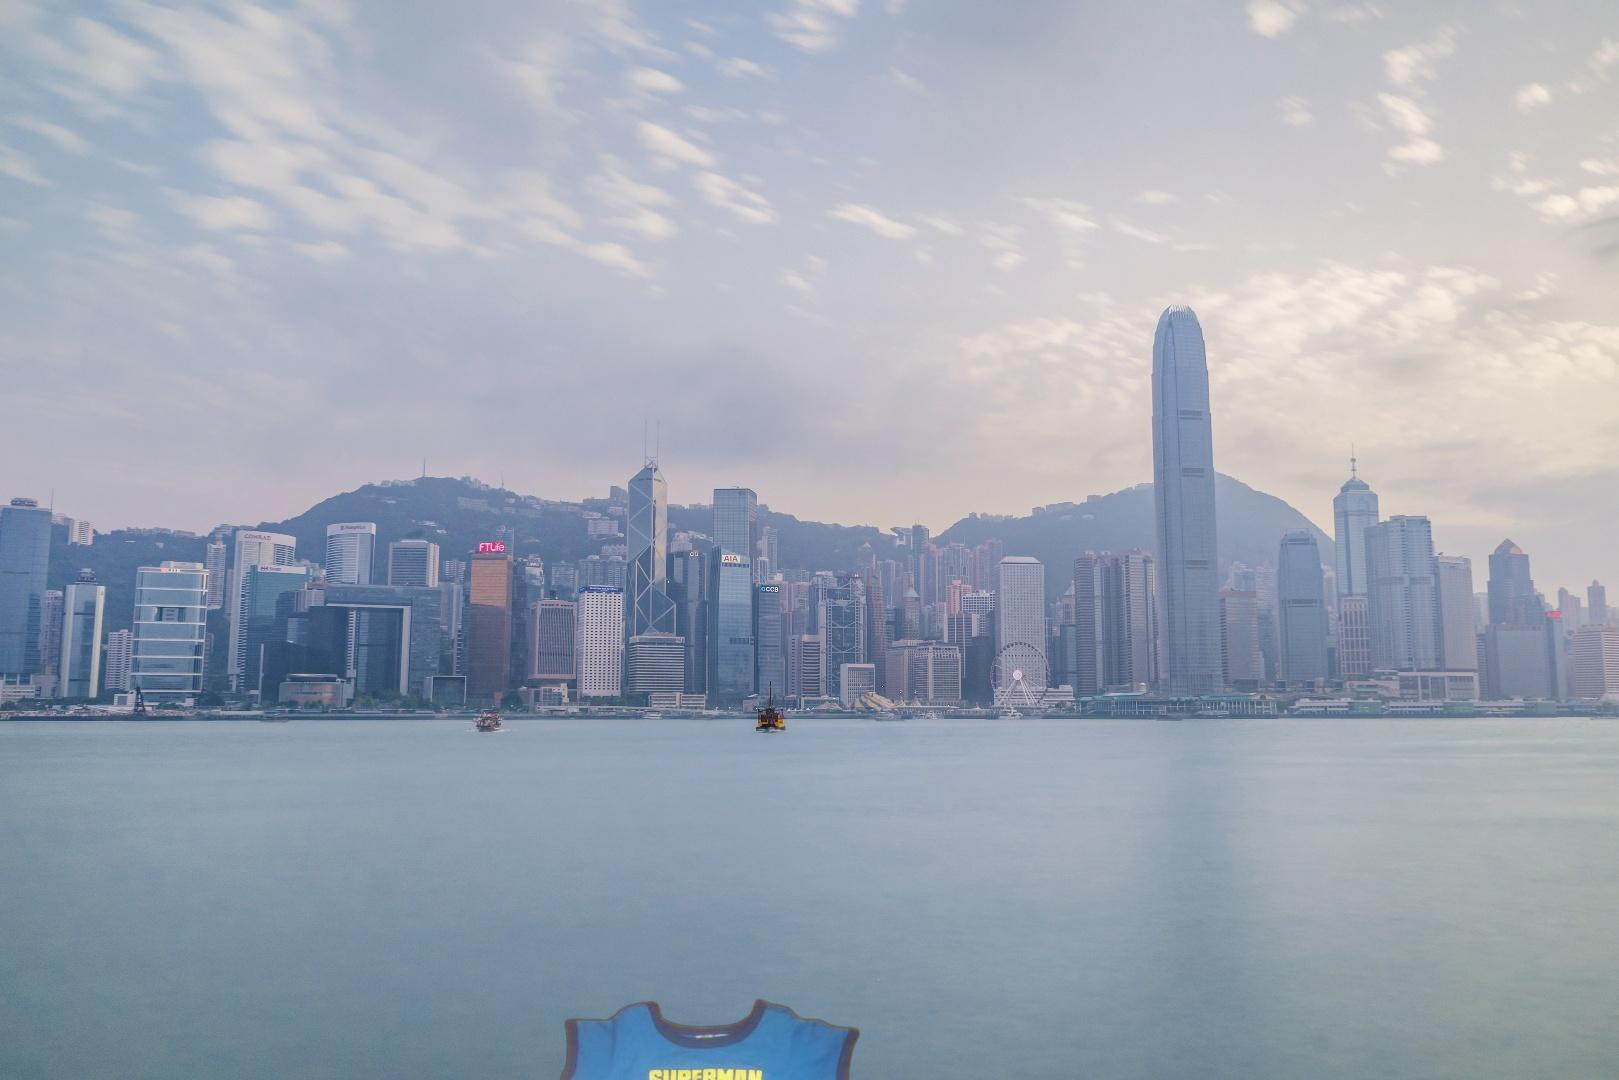clothes: (555, 994, 868, 1080)
